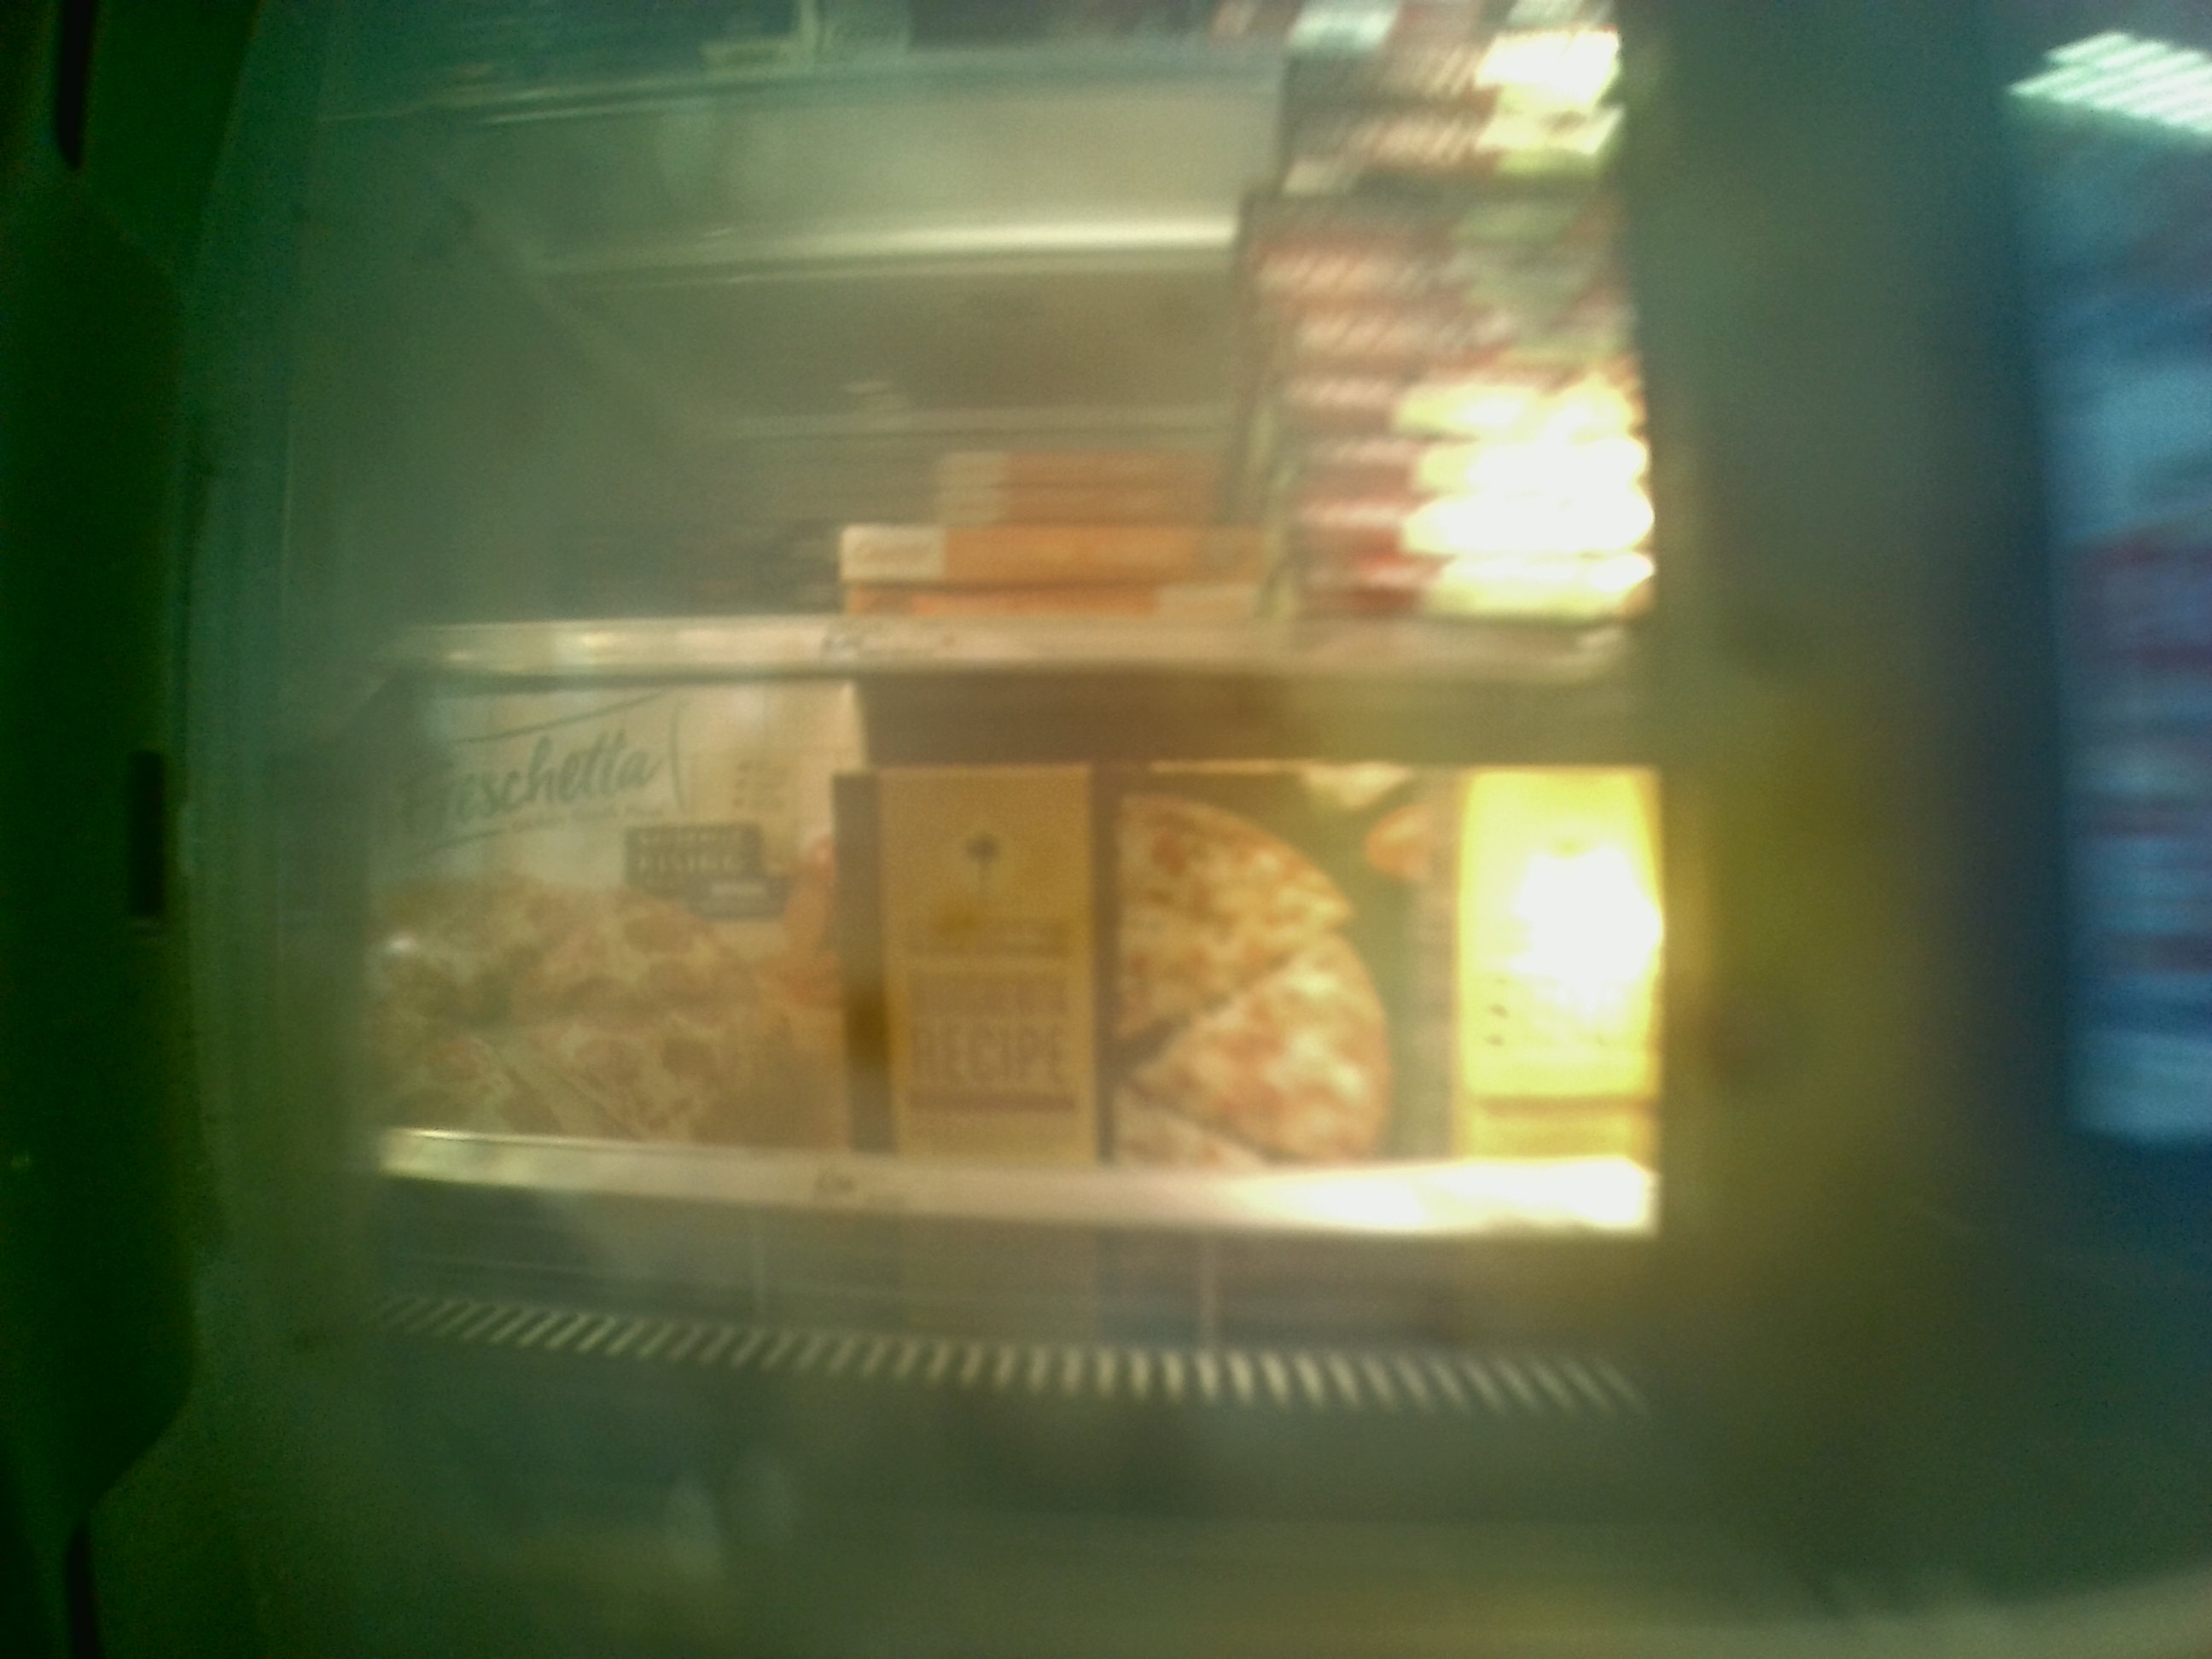shelf: (357, 667, 1665, 1244)
